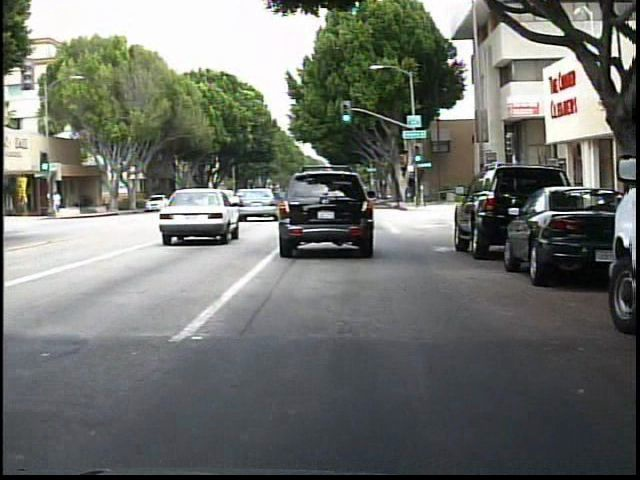person: (56, 189, 66, 217)
